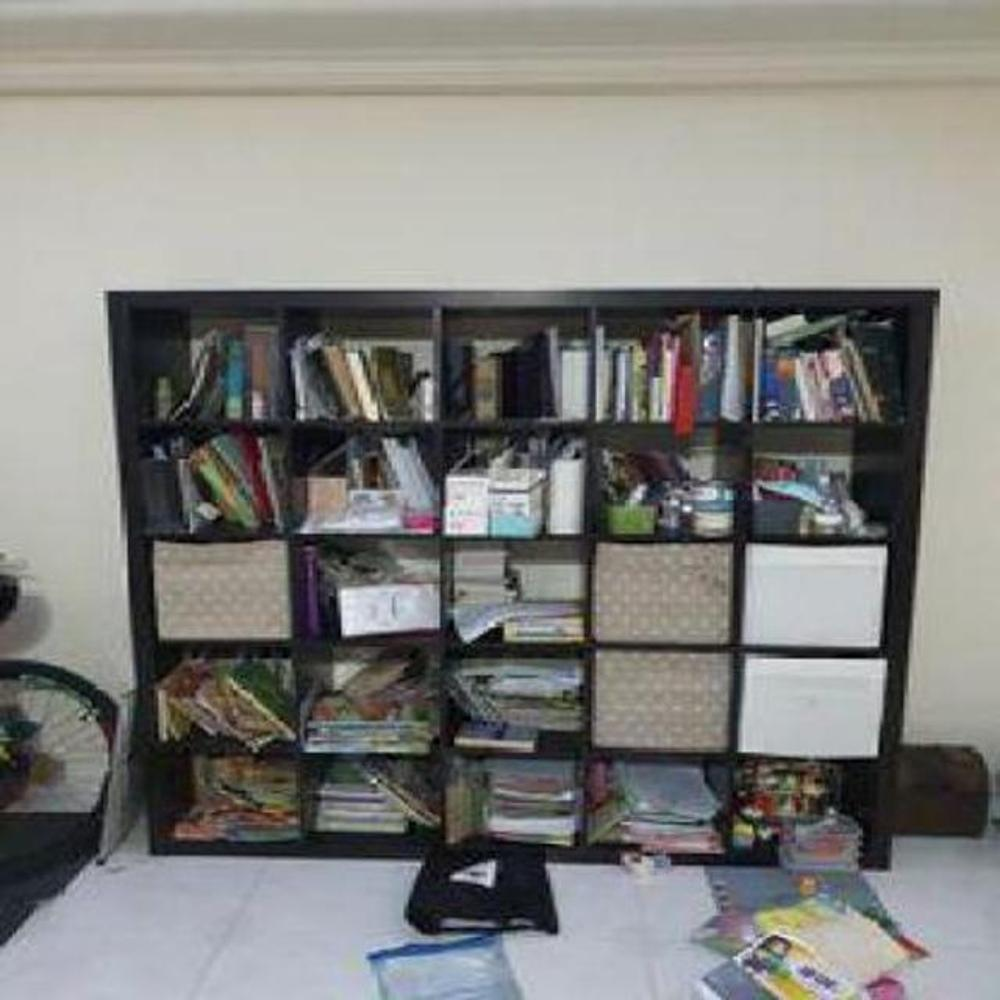lamp: (99, 287, 944, 874)
